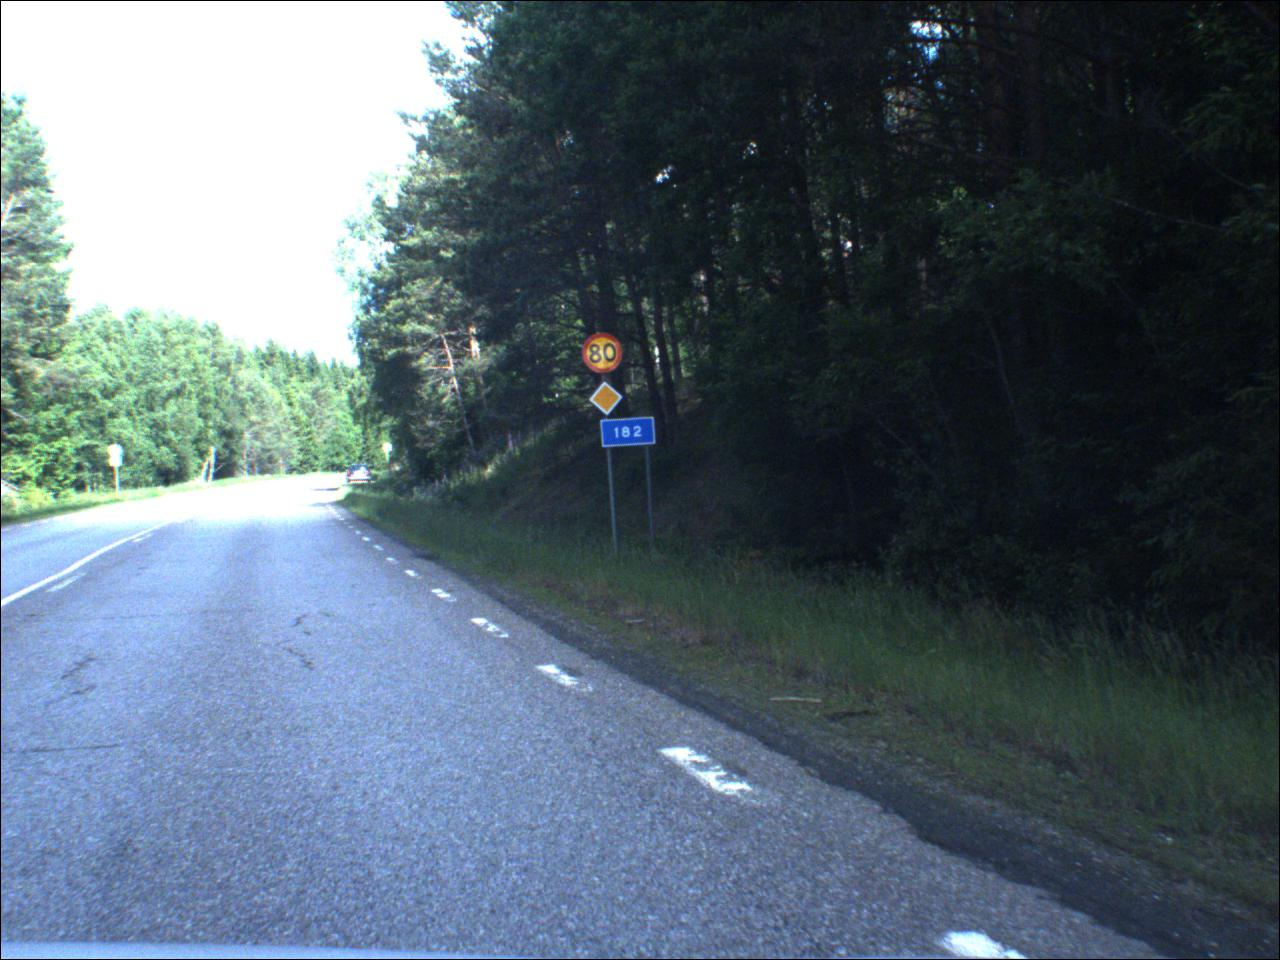80_SIGN: (585, 334, 626, 375)
PRIORITY_ROAD: (591, 383, 627, 419)
